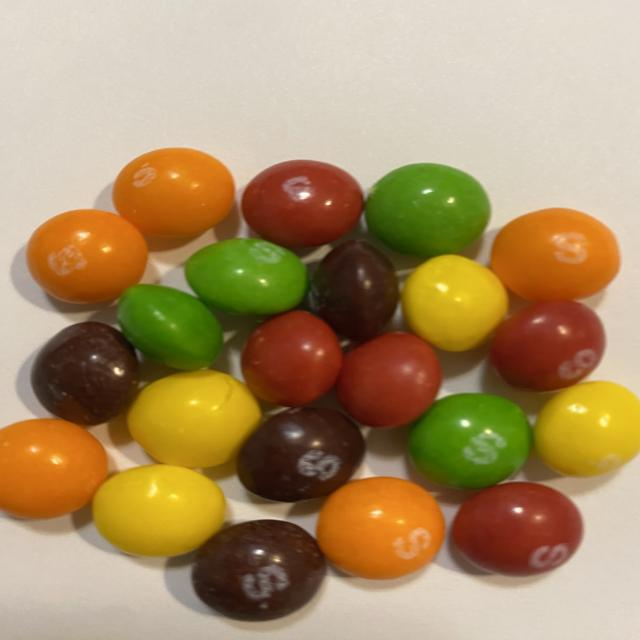smartie: (191, 520, 326, 622), (316, 477, 445, 580), (126, 370, 260, 469), (91, 465, 225, 557), (452, 483, 583, 577), (491, 208, 621, 301), (237, 408, 365, 502), (365, 163, 491, 258), (408, 394, 532, 490), (25, 209, 147, 304), (30, 322, 138, 426), (111, 147, 234, 237), (241, 159, 364, 247), (0, 419, 107, 520), (401, 254, 509, 352), (491, 300, 606, 392), (336, 332, 442, 428), (535, 381, 640, 477), (241, 310, 342, 407), (184, 238, 308, 315), (116, 284, 222, 370), (312, 240, 399, 341)
